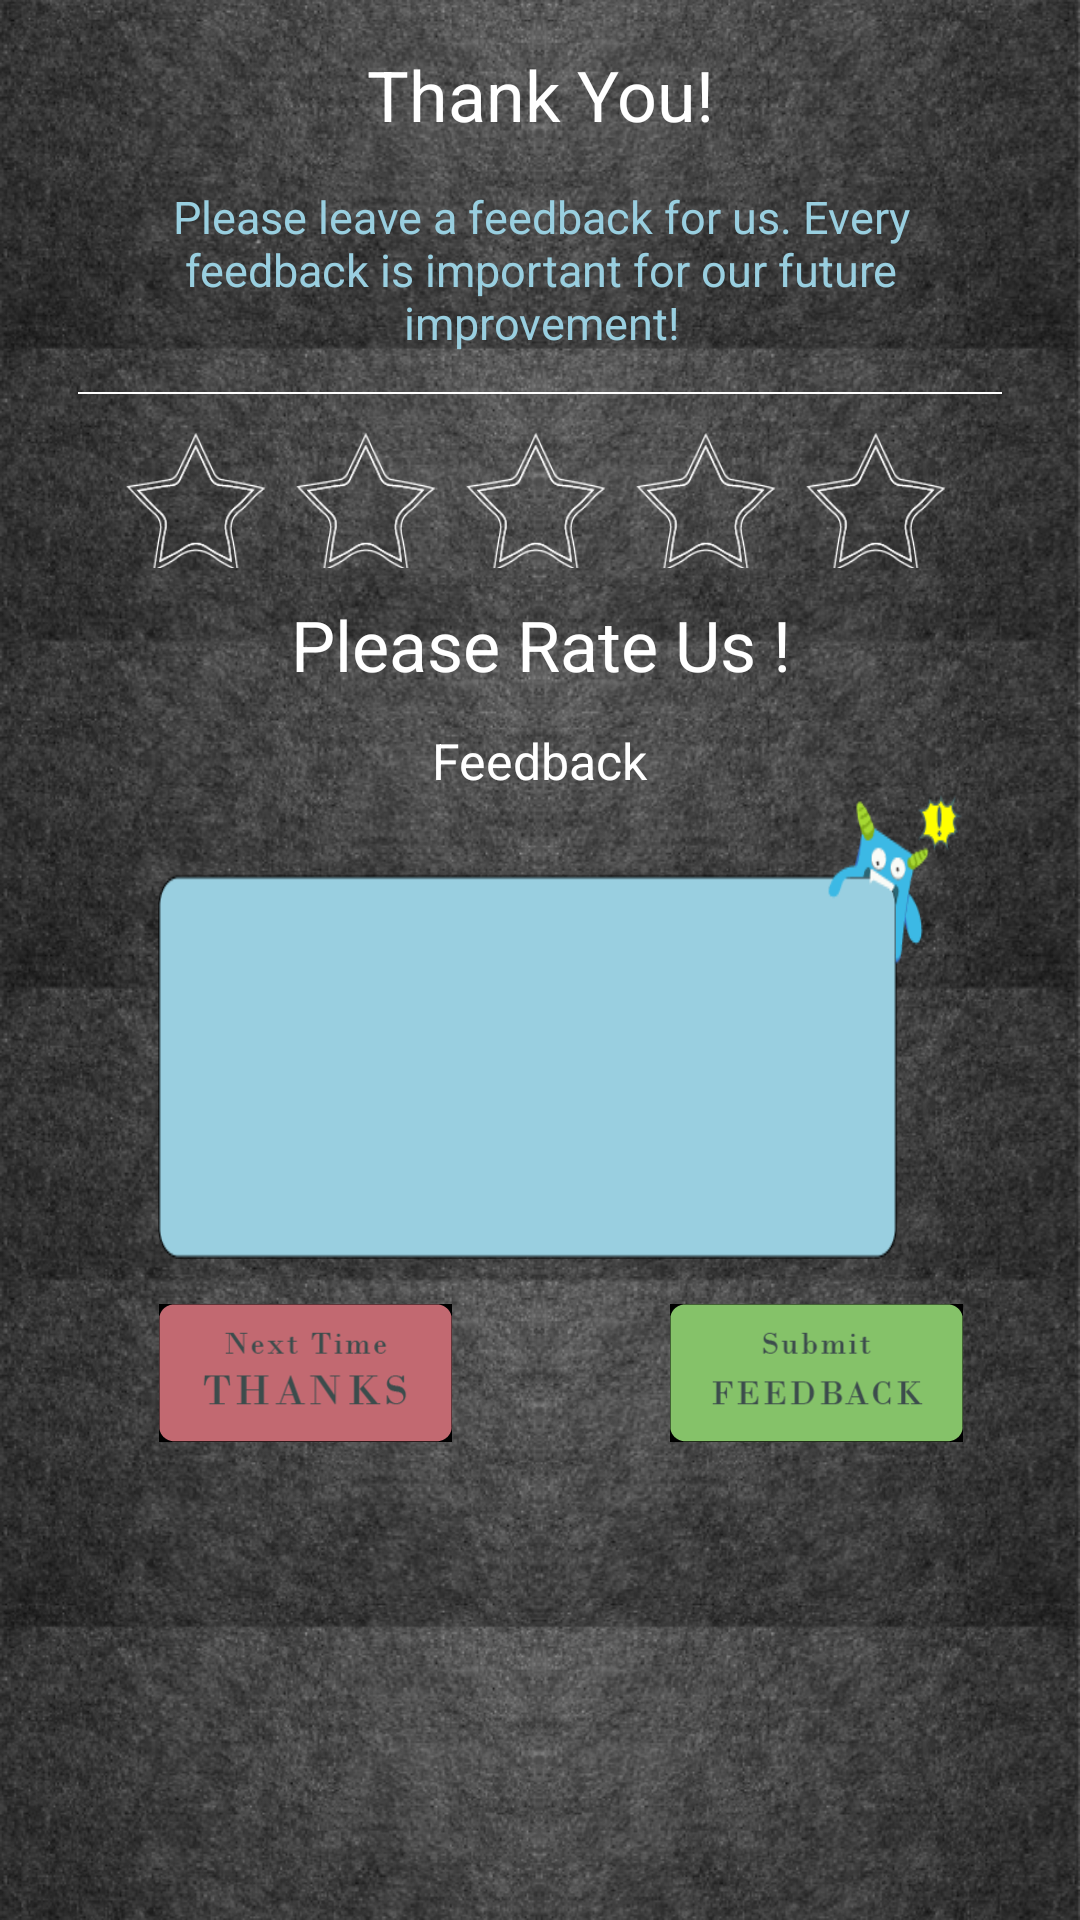

Where icons sit on this 1080 × 1920 app screen, as (left=x1, top=y1, right=x2, bottom=y2):
emptystar: (left=126, top=433, right=266, bottom=568), (left=296, top=433, right=436, bottom=568), (left=466, top=433, right=606, bottom=568), (left=636, top=433, right=776, bottom=568), (left=806, top=433, right=946, bottom=568)
